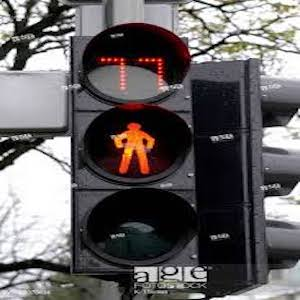red: (110, 117, 158, 176)
